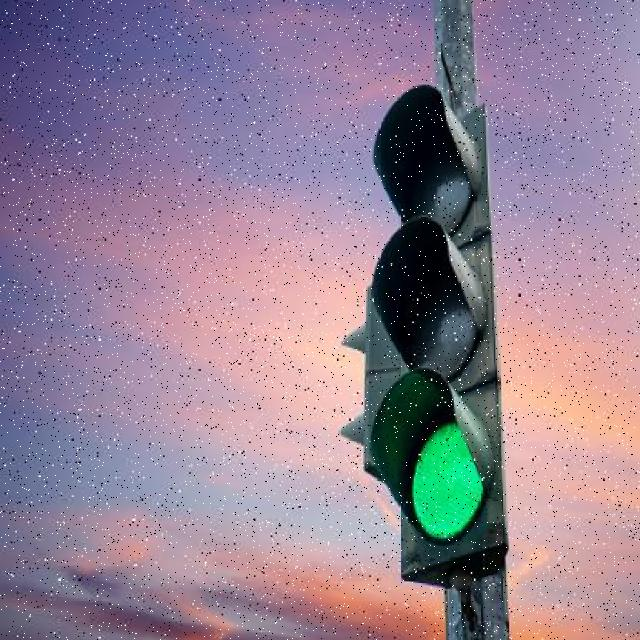green-light: (340, 100, 568, 575)
